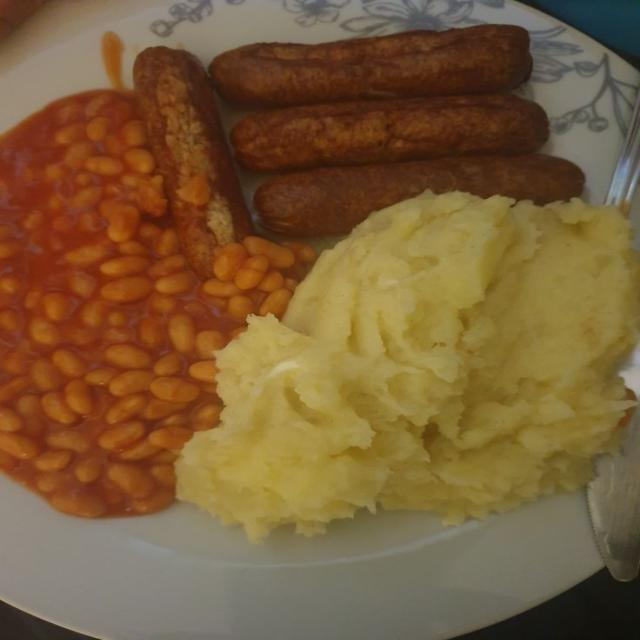beans: (243, 237, 295, 268), (107, 463, 153, 497), (50, 493, 106, 518), (100, 276, 153, 302), (99, 421, 145, 450), (14, 395, 46, 436), (214, 243, 248, 281), (106, 394, 147, 424), (150, 377, 199, 402), (41, 391, 78, 424), (234, 256, 269, 290), (109, 370, 154, 396), (176, 173, 211, 206), (104, 345, 151, 369), (107, 207, 139, 242), (148, 426, 192, 450), (29, 359, 62, 391), (168, 314, 195, 353), (100, 256, 150, 277), (140, 398, 187, 420), (0, 432, 38, 459), (47, 430, 91, 453), (65, 379, 93, 415), (133, 490, 174, 514), (259, 289, 292, 318), (52, 349, 86, 377), (138, 316, 166, 349), (63, 245, 106, 266), (155, 271, 194, 294), (117, 440, 159, 461), (195, 330, 226, 358), (29, 318, 61, 345), (42, 292, 71, 321), (150, 254, 186, 277), (0, 346, 28, 375), (123, 149, 155, 174), (99, 198, 135, 220), (85, 156, 124, 176), (34, 451, 72, 471), (0, 376, 28, 403), (74, 457, 102, 484), (67, 272, 96, 298), (70, 186, 102, 209), (154, 228, 179, 257), (203, 278, 241, 297), (283, 242, 317, 263), (80, 300, 106, 327), (85, 93, 113, 118), (154, 353, 184, 376), (54, 123, 85, 145), (188, 360, 218, 382), (120, 121, 146, 146), (227, 295, 254, 319), (35, 472, 65, 493), (15, 395, 40, 420), (55, 102, 82, 125), (66, 327, 98, 346), (85, 368, 118, 386), (193, 404, 222, 424), (0, 407, 23, 432), (150, 465, 176, 487), (149, 293, 177, 313), (86, 117, 109, 141), (258, 271, 284, 292), (102, 327, 133, 343), (76, 212, 100, 232), (104, 134, 126, 155), (139, 222, 163, 241), (156, 413, 188, 427), (23, 287, 42, 310), (118, 241, 147, 255), (184, 301, 209, 317), (0, 310, 20, 330), (45, 164, 67, 182), (0, 276, 22, 294), (0, 451, 19, 471), (0, 241, 21, 259), (151, 450, 178, 463), (120, 173, 143, 187), (107, 312, 127, 326), (0, 224, 15, 240), (229, 327, 246, 339), (199, 382, 217, 393), (191, 422, 213, 431), (284, 278, 297, 292)
mashed potatoes: (177, 192, 639, 542)
sausage: (134, 46, 252, 279), (254, 154, 584, 237), (209, 24, 532, 106), (230, 95, 548, 172)
